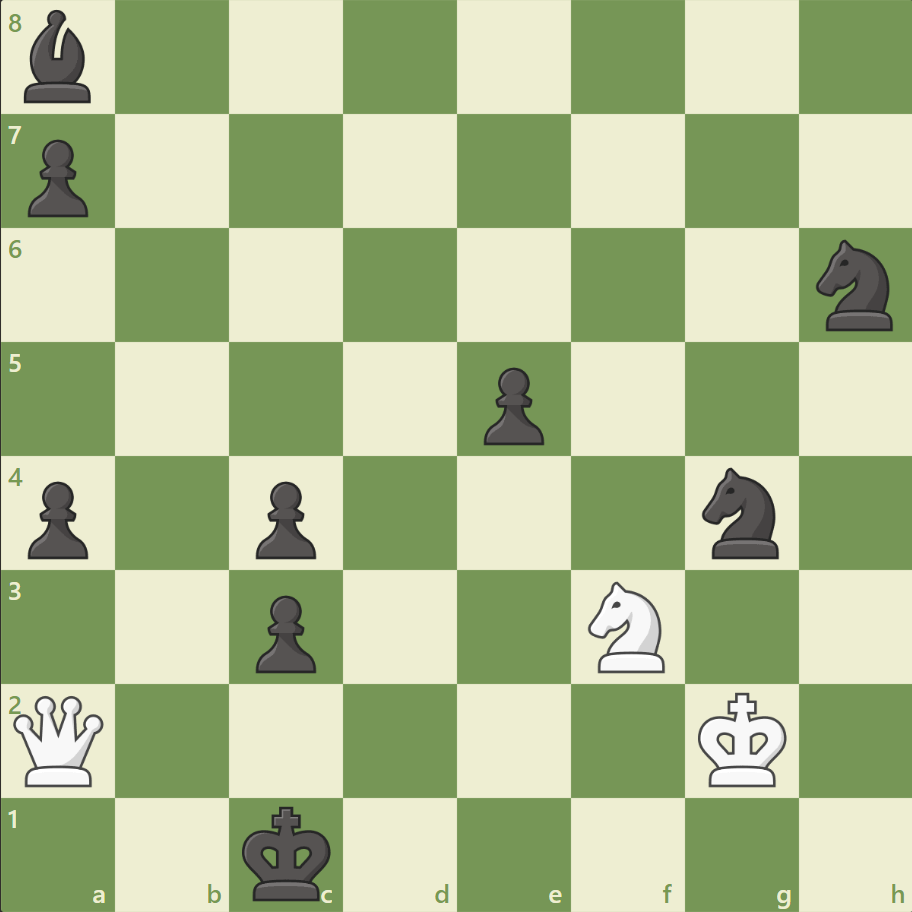K: (692, 685, 792, 793)
N: (579, 575, 676, 677)
Q: (10, 690, 109, 789)
b: (17, 6, 101, 109)
k: (238, 798, 338, 906)
n: (806, 234, 903, 337), (692, 461, 789, 564)
p: (20, 132, 95, 223), (474, 359, 549, 450), (20, 473, 95, 564), (247, 473, 322, 564), (247, 586, 322, 677)
